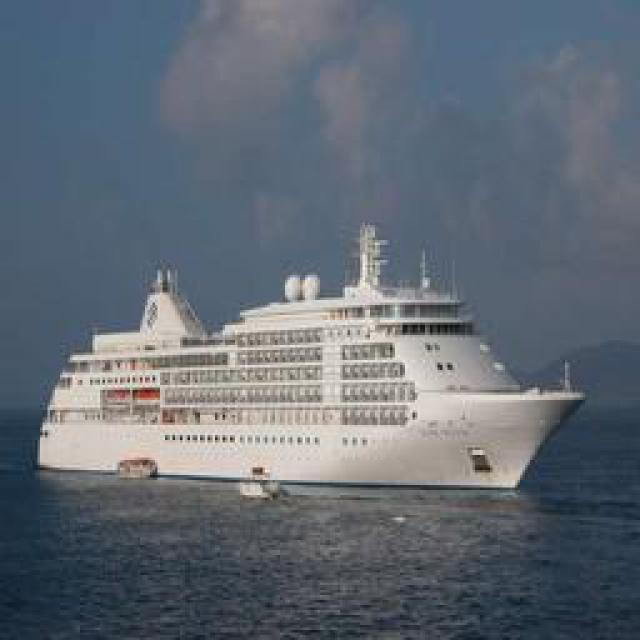Ship: (42, 229, 585, 494)
